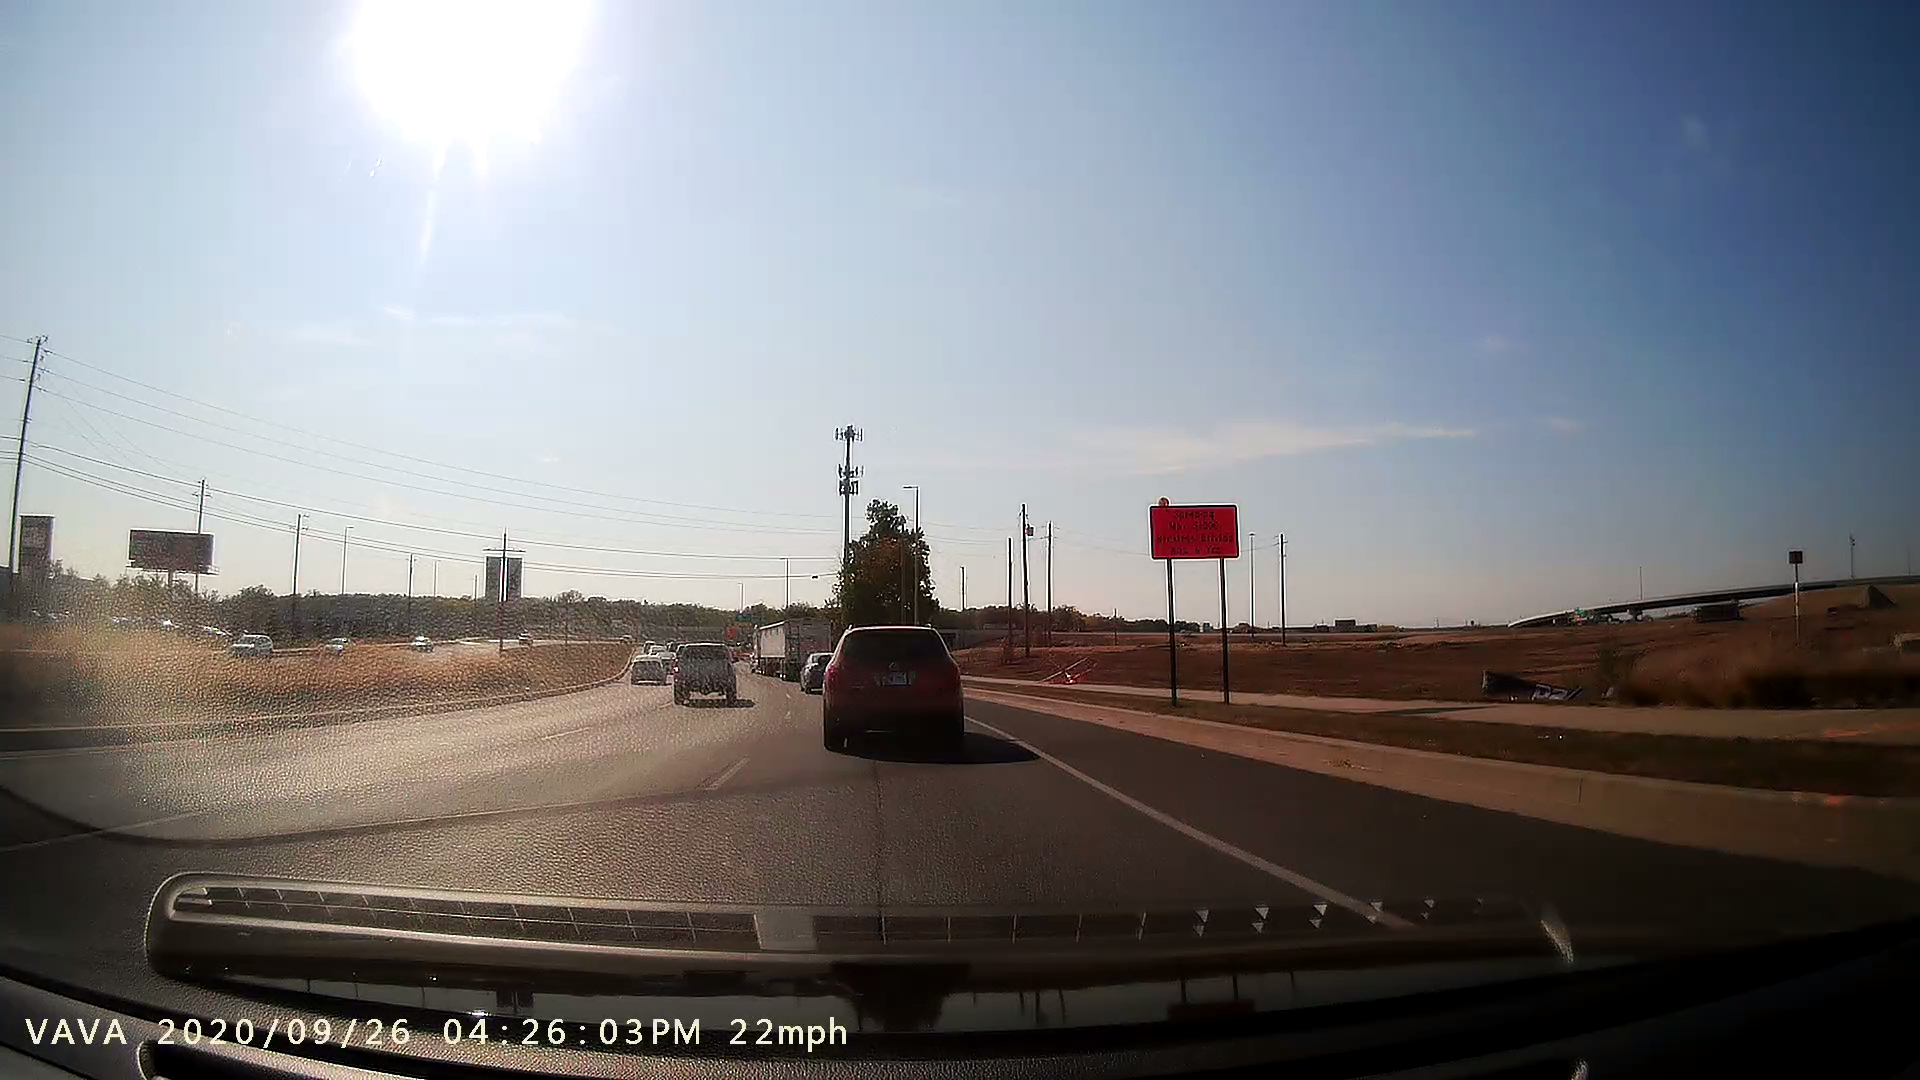temperary_sign: (1139, 488, 1257, 719)
